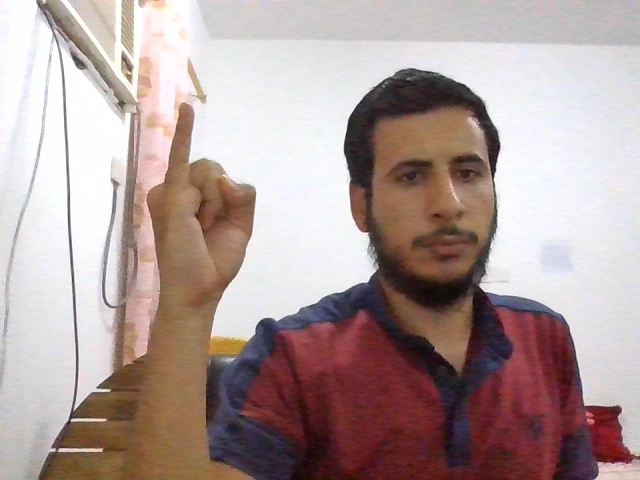One: (147, 102, 255, 300)
